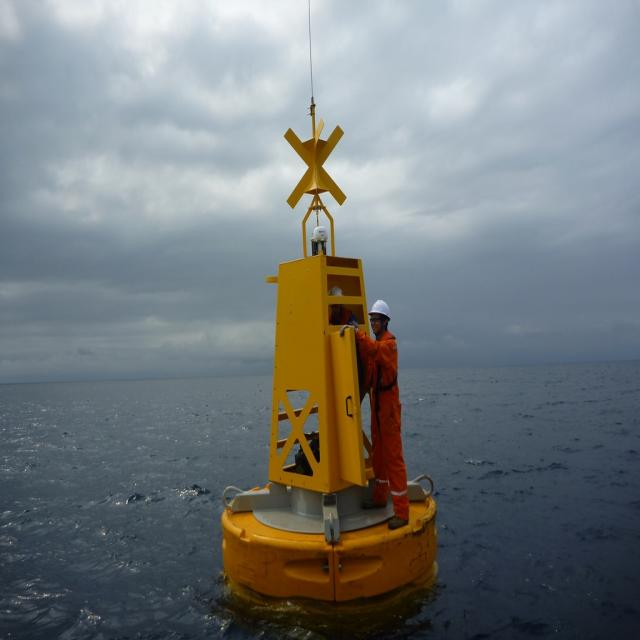buoy: (217, 88, 440, 600)
